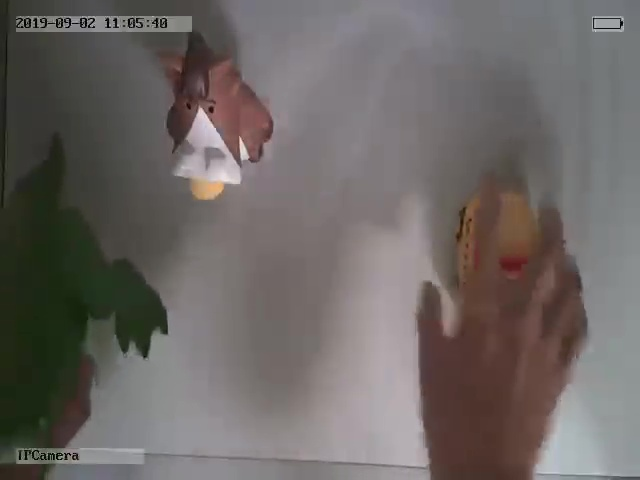horse: (156, 34, 273, 201)
